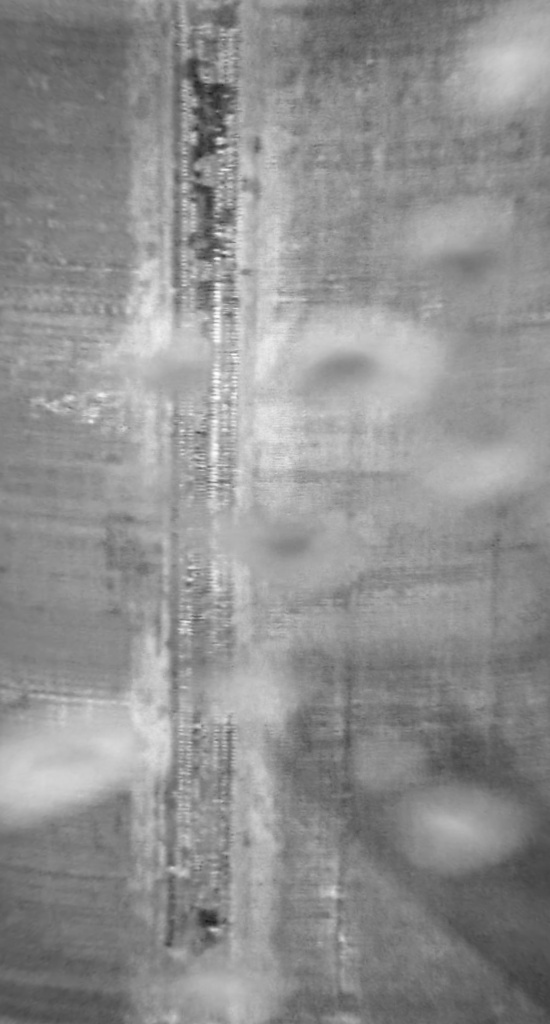splice: (155, 1, 252, 1022)
